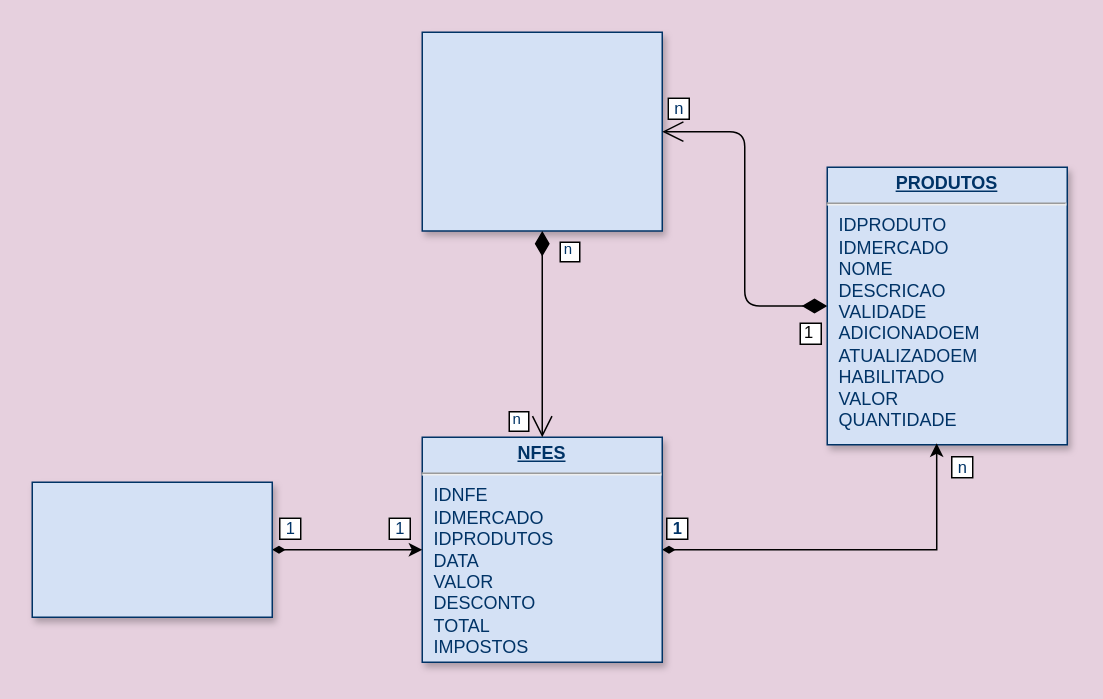
This 1103x699 diagram has some shape labels left out. The shapes that lost their labels are listed below. From the top down, each one's centre as x and y in pixels, then its label:
At (x=543, y=133): "MERCADOS IDMERCADO NOME DESCRICAO CRIADOEM ATUALIZADOEM HABILITADO CNPJ".
At (x=153, y=551): "COMPRA IDCOMPRA IDNFE DESCRICAO DATA".
